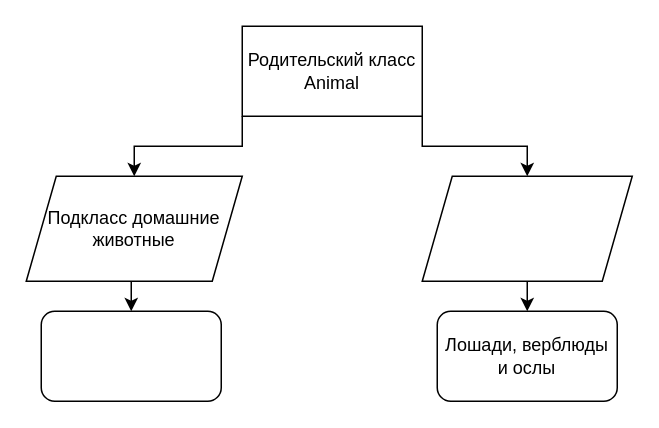
Image size: 659x428. Some labels were removed from this diagram. The shapes that lost their labels are listed below. From the top down, each one's box as (x1, y1, x2, y2) in pixels, then its label:
(421, 175, 632, 281): Подкласс вьючные животные
(40, 310, 221, 401): собаки, кошки, хомяки
